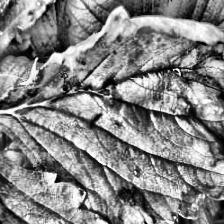Angular Leafspot: (0, 4, 224, 224), (0, 109, 132, 224), (0, 0, 94, 103)
